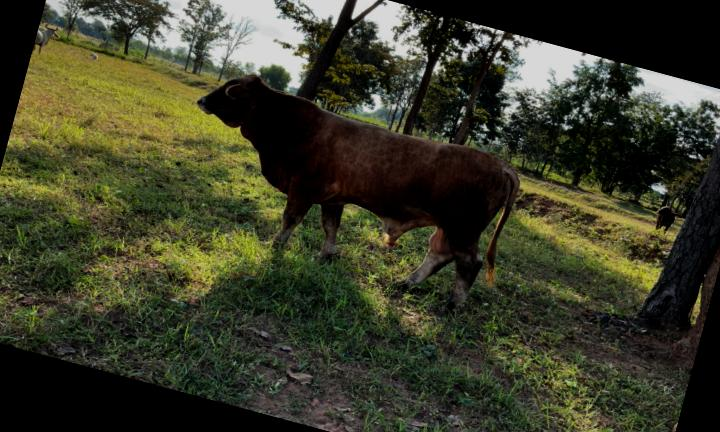Charolais: (197, 74, 519, 305)
